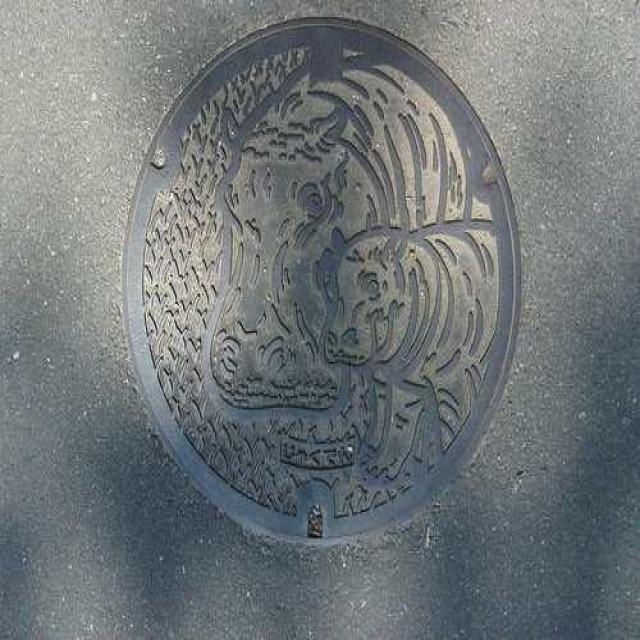manhole: (125, 18, 520, 542)
